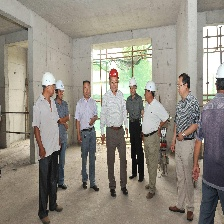helmet: (42, 72, 55, 85), (107, 69, 121, 79), (55, 78, 65, 91), (144, 81, 157, 91), (128, 78, 137, 87)
no-helmet: (177, 71, 190, 85), (82, 79, 91, 90)
no-vest: (199, 93, 224, 183), (36, 94, 59, 160), (176, 97, 197, 137), (106, 90, 126, 131), (143, 102, 163, 140), (79, 97, 98, 132), (56, 103, 69, 143), (128, 96, 142, 122)
person: (33, 69, 67, 224), (170, 71, 200, 222), (198, 65, 224, 224), (100, 68, 130, 202), (141, 79, 170, 203), (74, 77, 102, 196), (127, 77, 145, 184), (56, 78, 70, 190)
